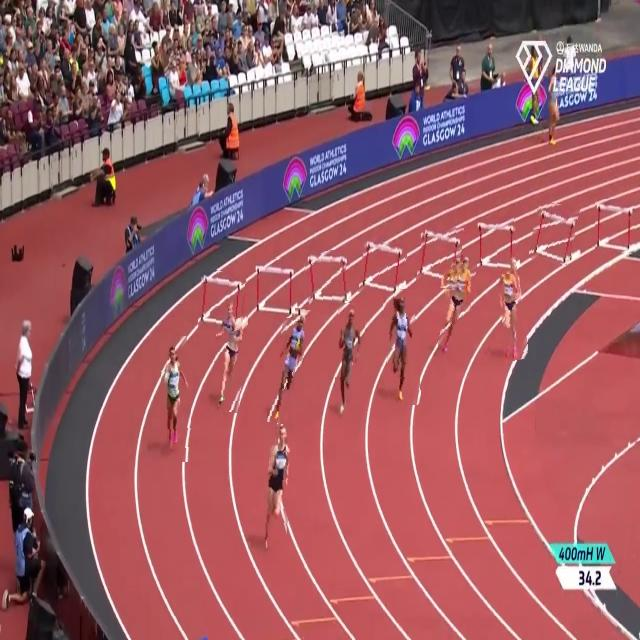athlete: (271, 307, 307, 424), (212, 292, 247, 412), (384, 290, 419, 406), (160, 337, 192, 463), (265, 424, 292, 565), (440, 253, 474, 362), (335, 303, 365, 421), (496, 250, 526, 361)
hurdle: (417, 224, 462, 290), (531, 202, 578, 263), (199, 270, 245, 331), (252, 258, 295, 318), (360, 242, 407, 296), (305, 250, 348, 304), (476, 217, 516, 275), (596, 199, 636, 253)
